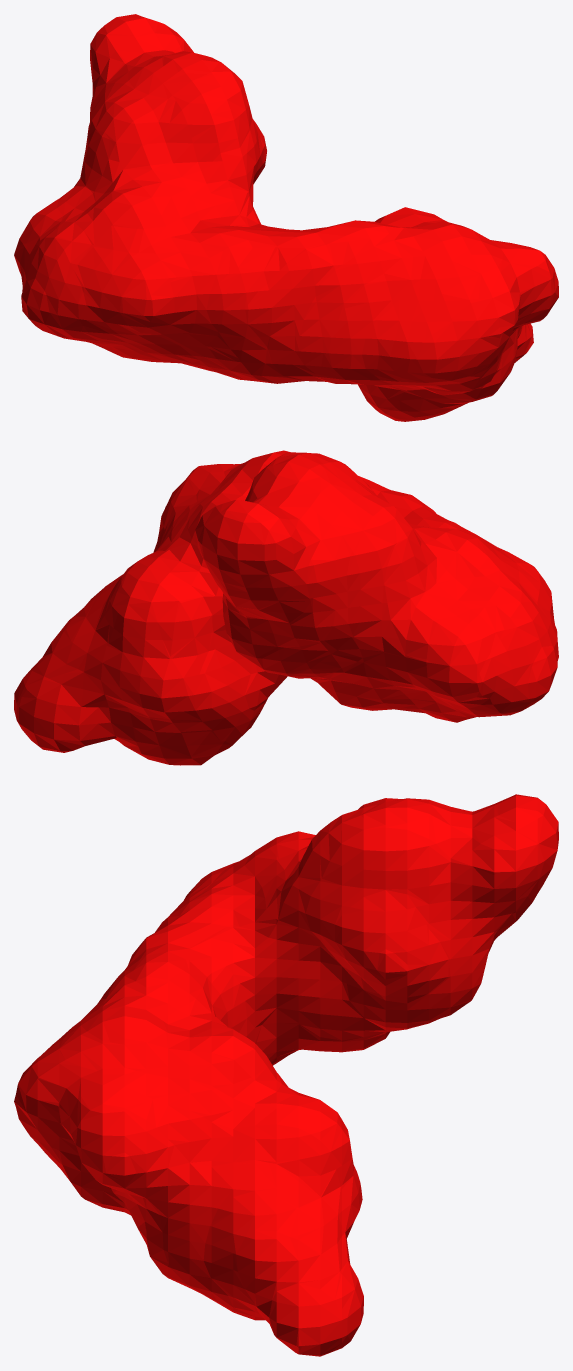
The model's file is cueR_coarse.dae.
3 views of the same model, one above another, from view 1: azimuth 30°, elevation 25°; view 2: azimuth 150°, elevation 25°; view 3: azimuth 270°, elevation 25° (orthographic). The views are drawn at different scales.
Visible parts, largest first — view 1: cueR; view 2: cueR; view 3: cueR.
Part boxes in pixels (x1,y1,x2,y2): cueR: [14, 14, 558, 421]; cueR: [14, 450, 558, 765]; cueR: [14, 794, 558, 1356].
Size of the model in its own units: 80.24 by 55.4 by 66.3.
